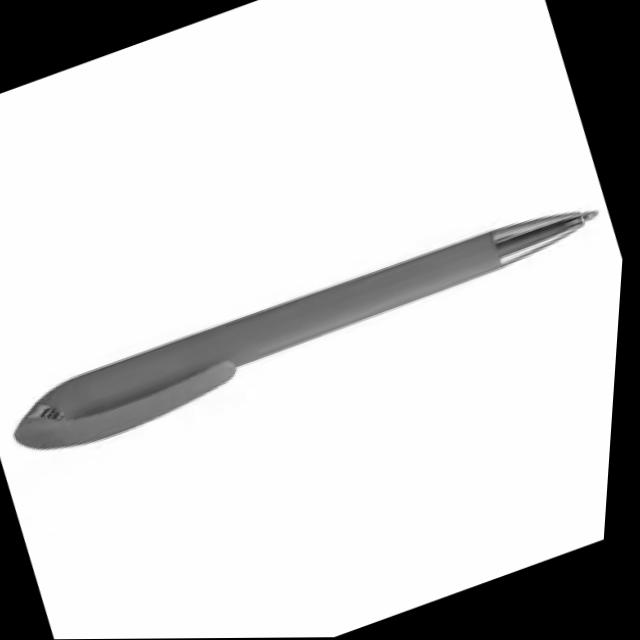pen: (0, 187, 618, 470)
